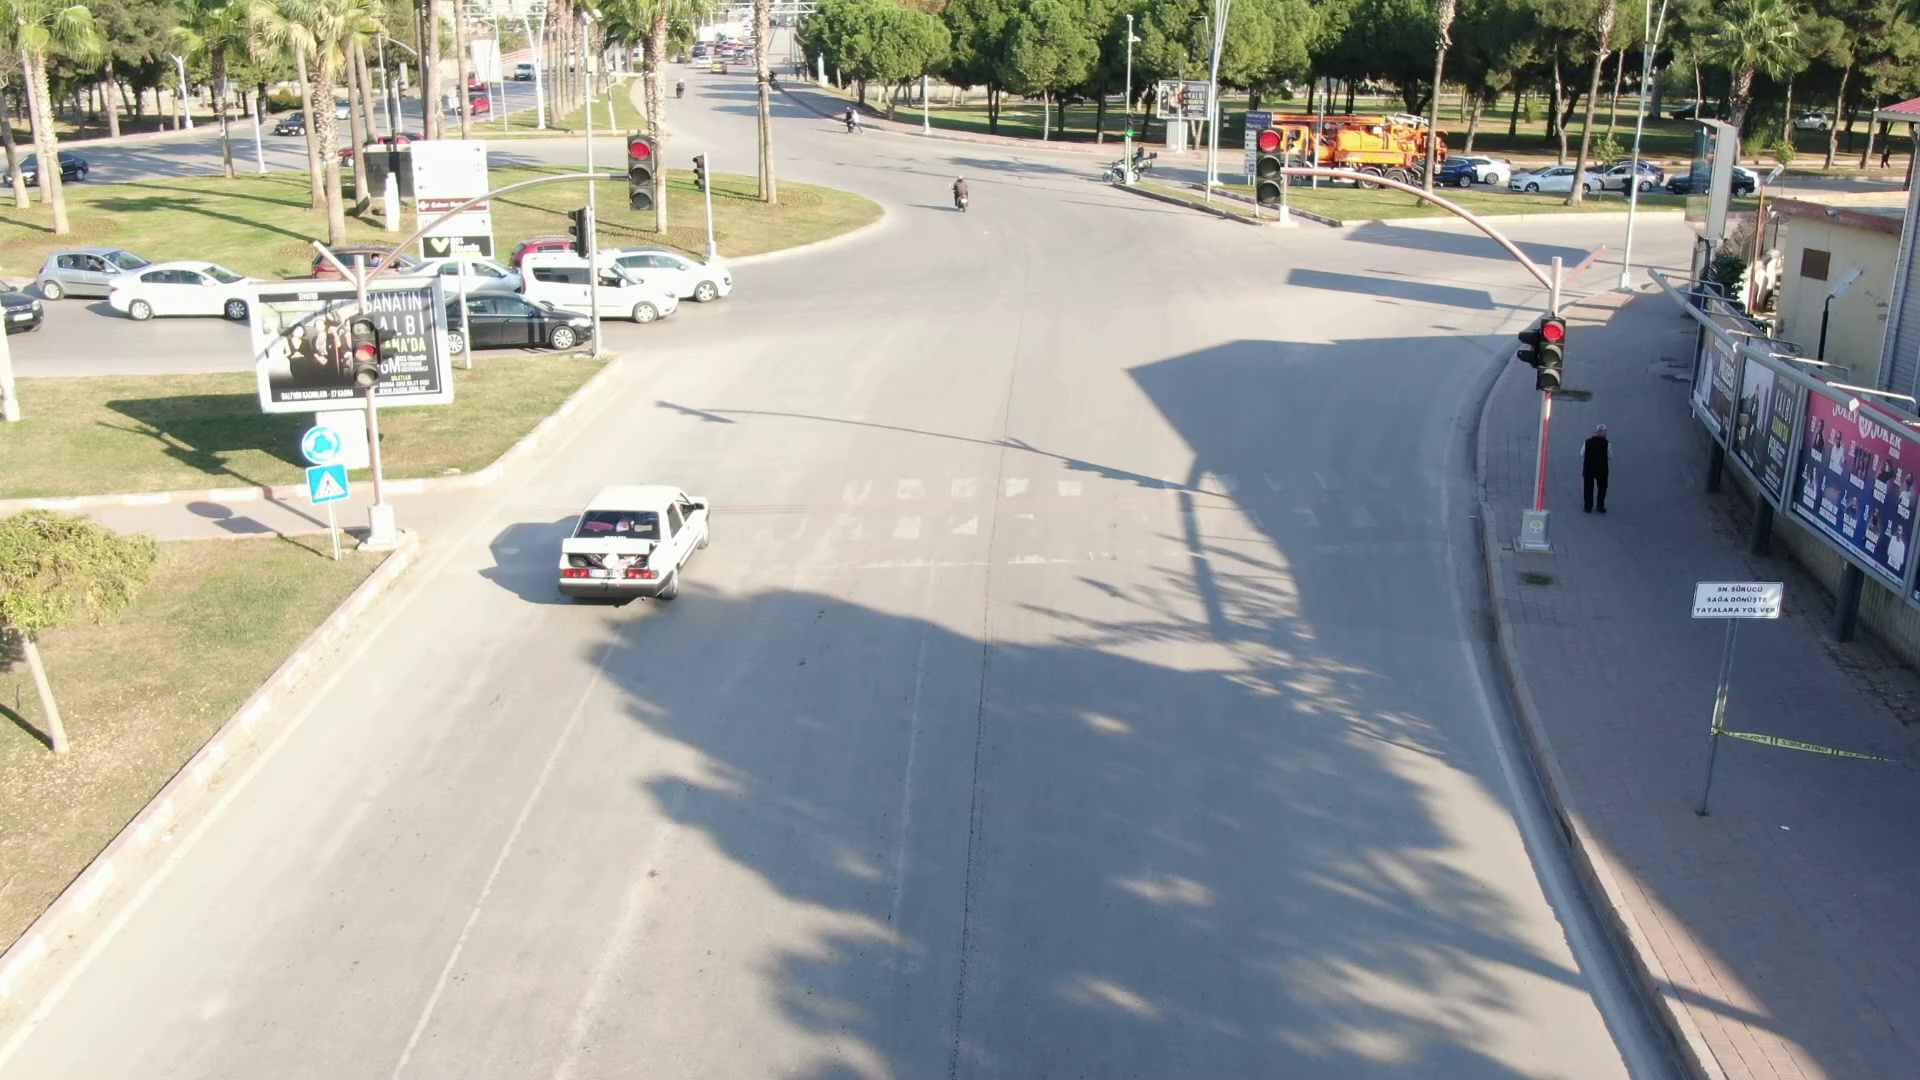car: (521, 492, 731, 604), (504, 243, 678, 319), (441, 290, 614, 357), (98, 261, 249, 319), (604, 243, 741, 302)
person: (1563, 408, 1619, 521), (939, 176, 976, 212)
